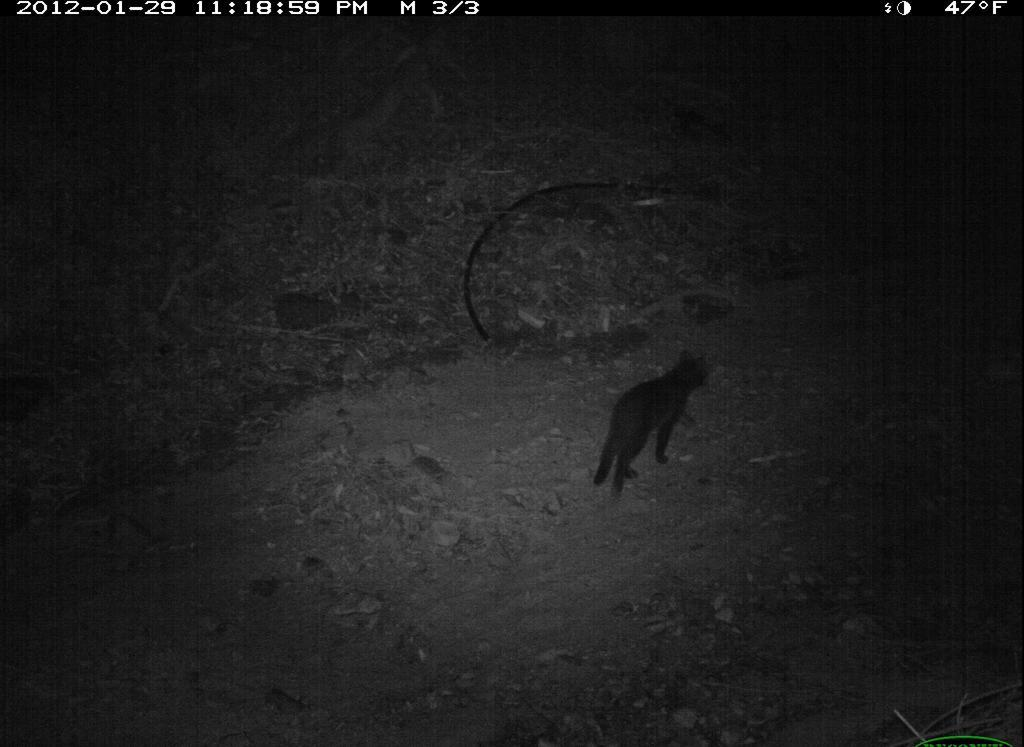cat: (574, 341, 717, 500)
